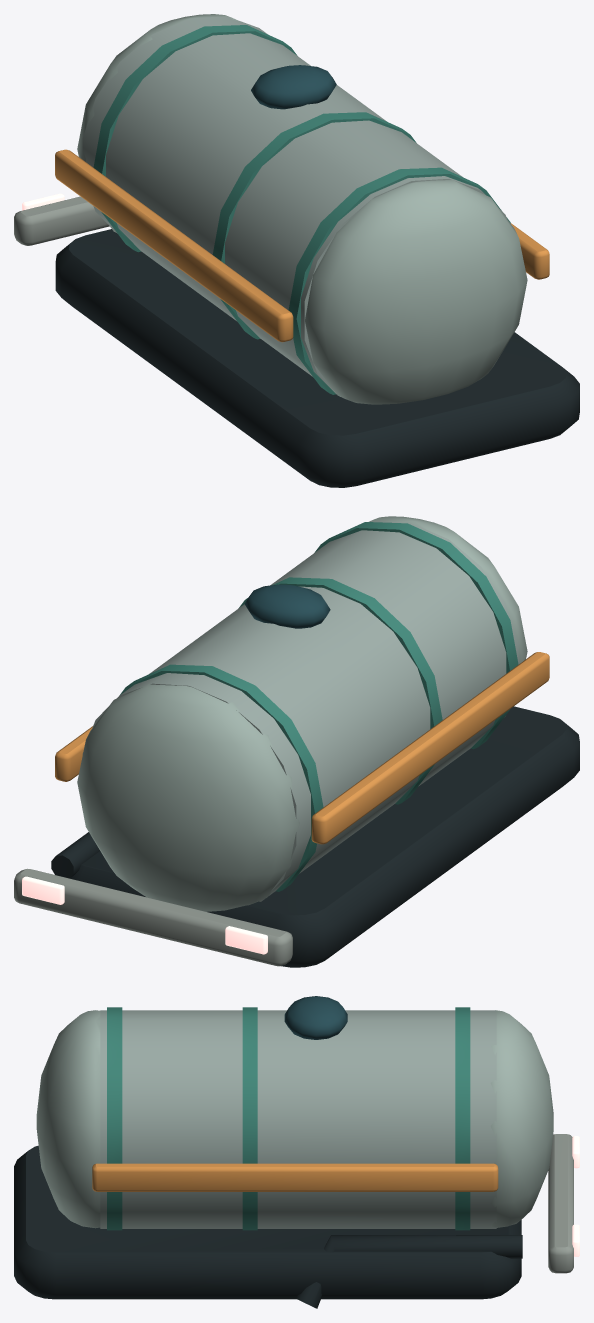
Rendered from tanker.glb.
3 views of the same model, one above another, from view 1: azimuth 30°, elevation 25°; view 2: azimuth 150°, elevation 25°; view 3: azimuth 270°, elevation 25° (orthographic). The views are drawn at different scales.
Visible parts, largest first — view 1: Tanker; view 2: Tanker; view 3: Tanker.
Boxes of the visible parts, x1,y1,x2,y2 form: Tanker: (14,14,579,487); Tanker: (14,516,579,967); Tanker: (14,996,579,1308).
Bounding box in the file's own units: 1.82 × 1.7 × 3.51.
